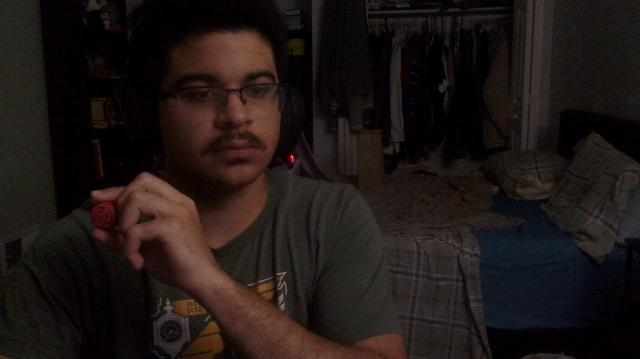cap: (92, 199, 118, 230)
